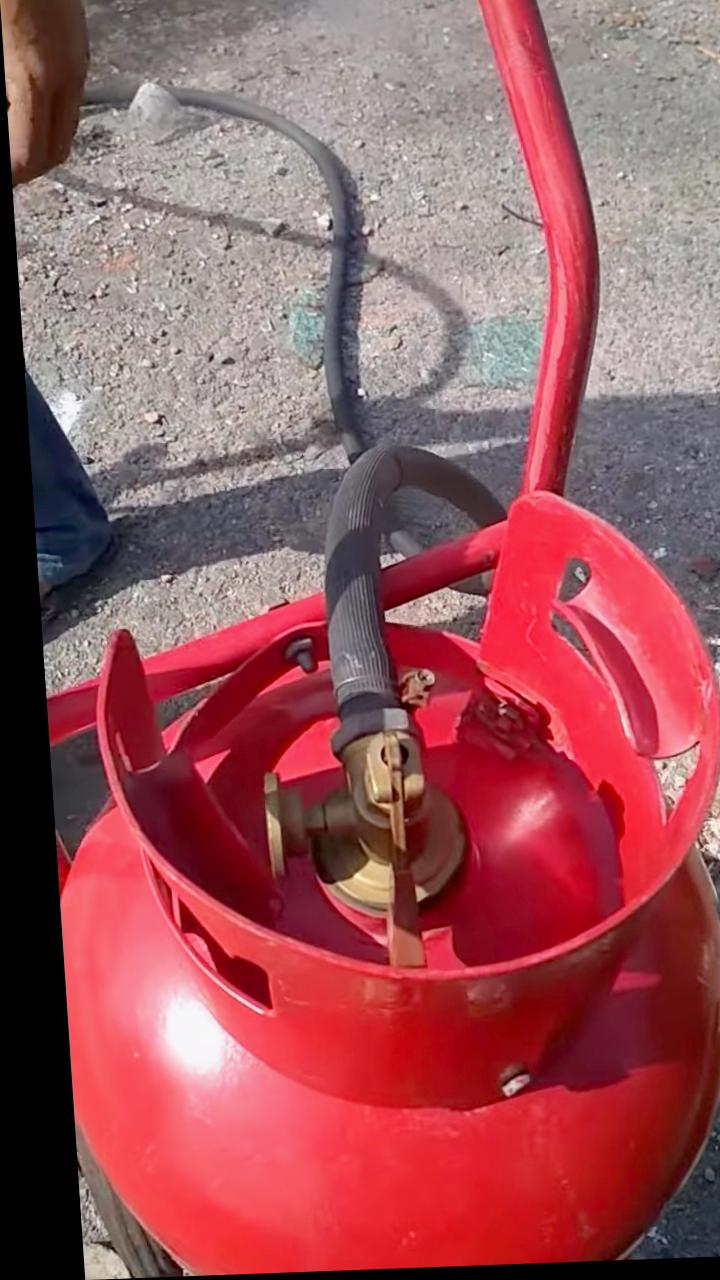FireExtinguisher: (26, 469, 720, 1280)
